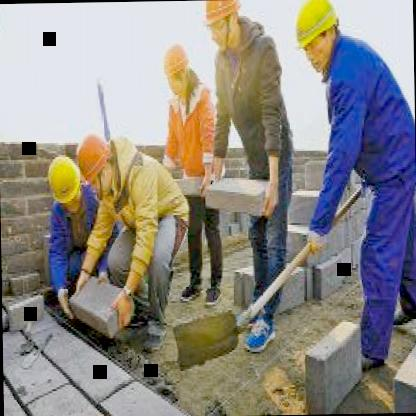helmet: (287, 0, 344, 76), (198, 0, 246, 58), (74, 124, 113, 194), (44, 152, 81, 209), (162, 36, 193, 103)
